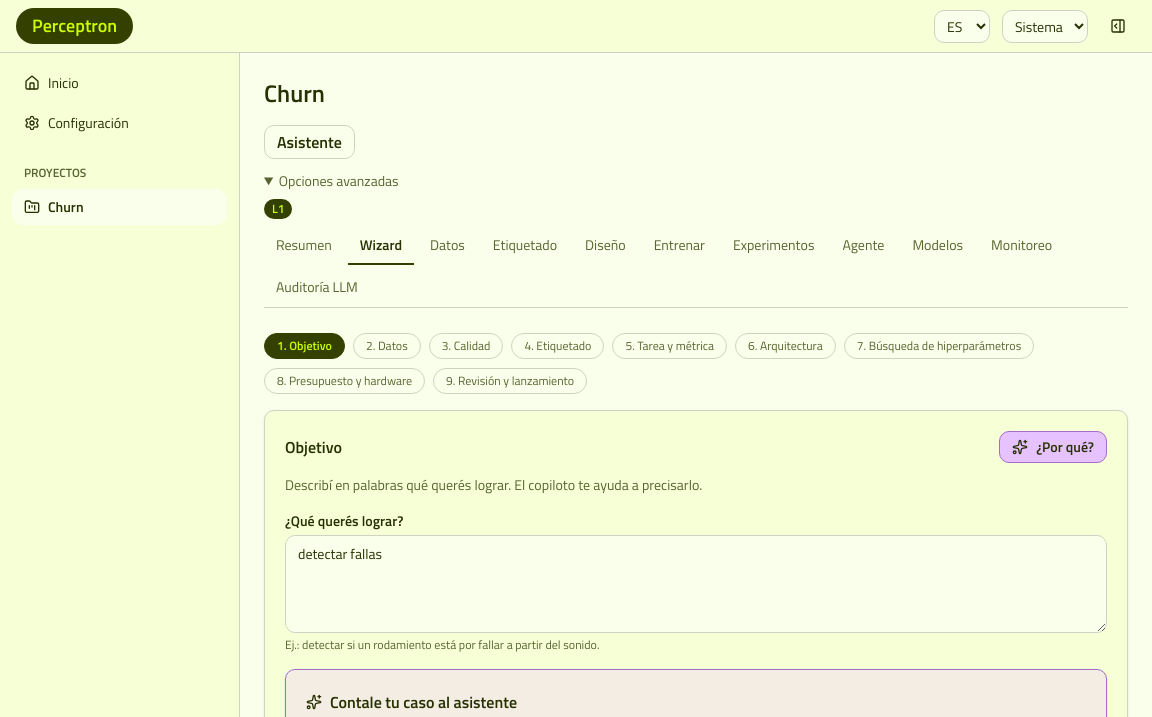
wizard y copiloto › guarda el objetivo y avanza de paso
Replace the text in the text box labelled "¿Qué querés lograr?" with "anticipar fallas de motor" at (696, 584), box [285,535,1107,633]
(page scrolled)
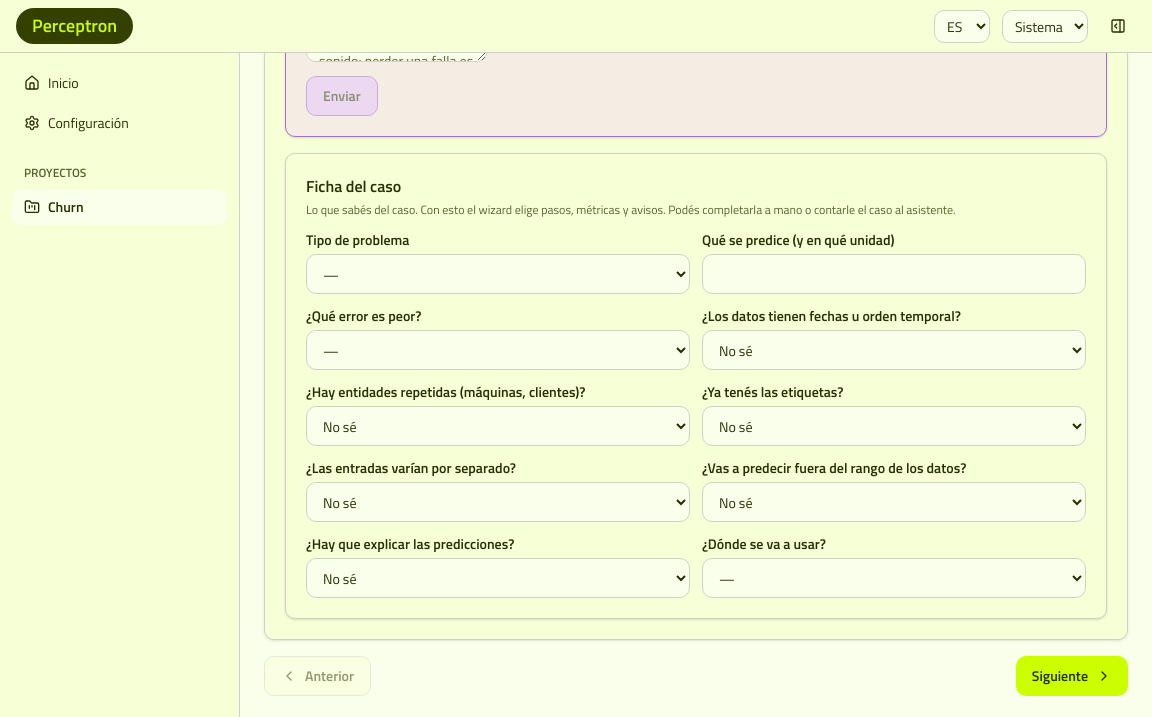
Click the button "Siguiente" at (1072, 676), box [1016,656,1128,696]
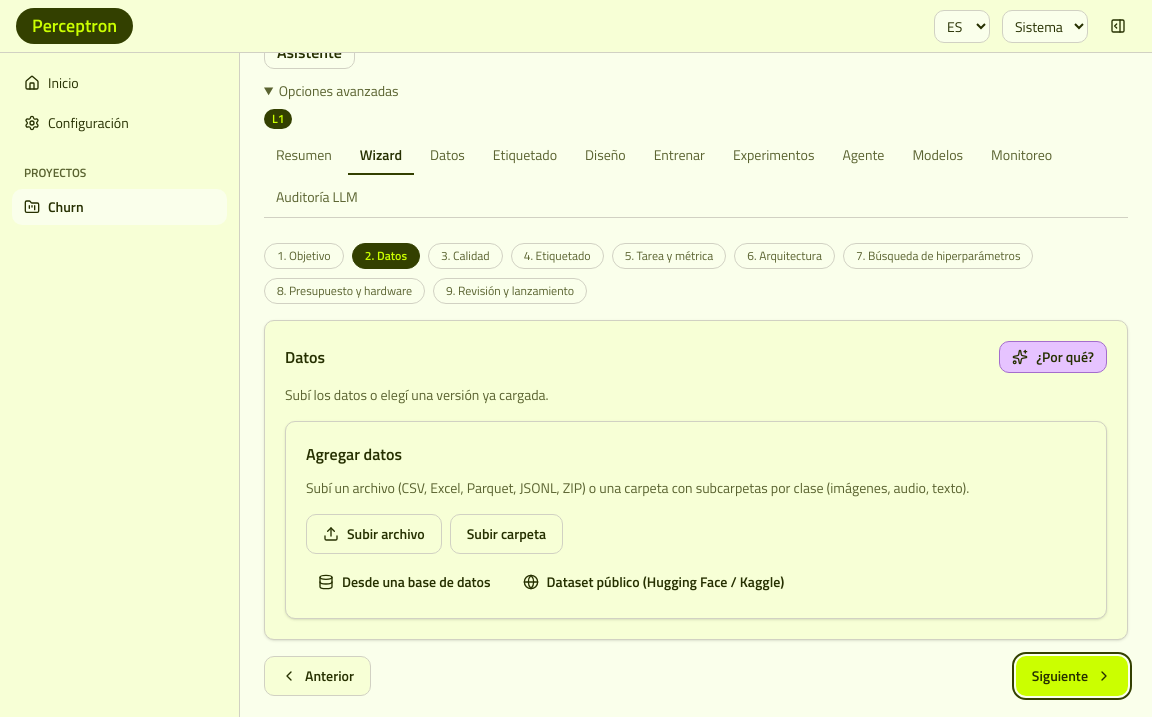
Now the heading "Agregar datos" is shown, box [306,442,402,466]
